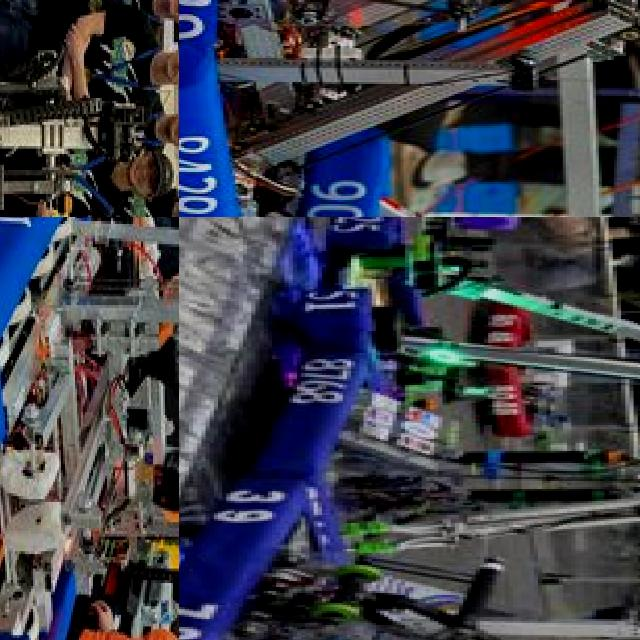FRC-Robots: (179, 0, 618, 217), (254, 347, 640, 587), (0, 217, 179, 640), (179, 483, 640, 640), (268, 217, 640, 405), (0, 6, 109, 217)
